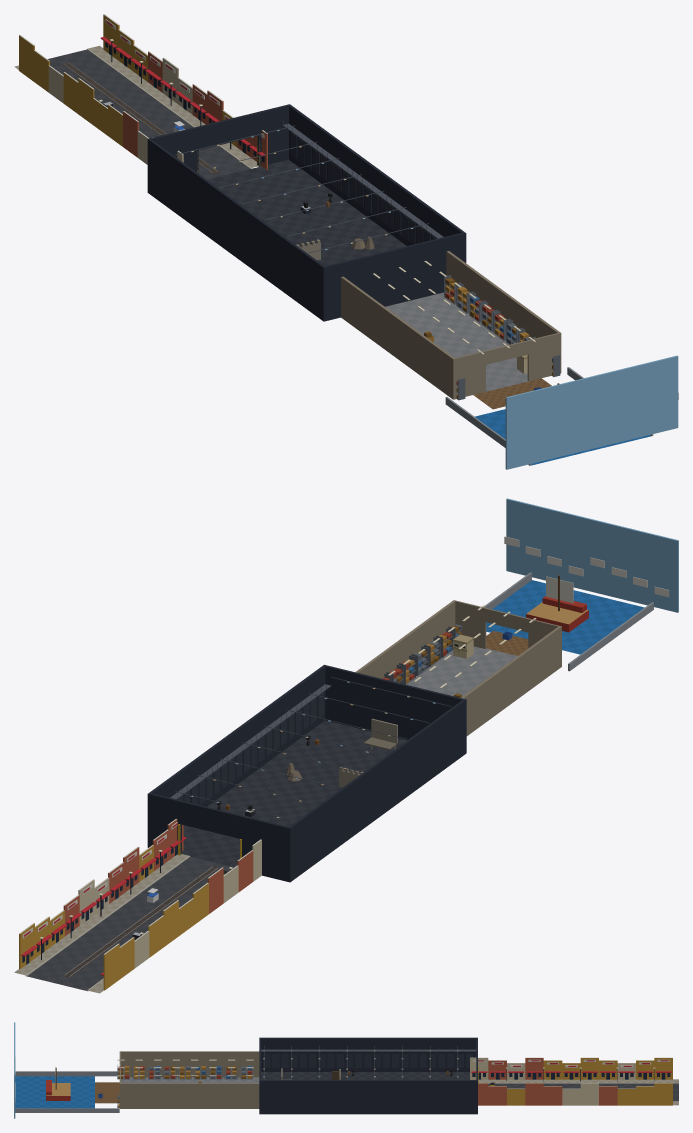
Rendered from stage2.glb.
The picture shows the model from 3 angles, top to bottom: view 1: azimuth 30°, elevation 25°; view 2: azimuth 150°, elevation 25°; view 3: azimuth 270°, elevation 25°; orthographic projection. The views are drawn at different scales.
Visible parts, largest first — view 1: Studio, Props, Lot, Tank; view 2: Studio, Tank, Lot, Props; view 3: Studio, Lot, Props, Tank, Lights.
Part boxes in pixels (x1,y1,x2,y2): Studio: (147, 104, 466, 321); Props: (341, 251, 561, 400); Lot: (14, 14, 267, 179); Tank: (445, 355, 678, 469); Studio: (147, 664, 466, 882); Tank: (484, 498, 678, 671); Lot: (14, 819, 261, 993); Props: (355, 600, 561, 735); Studio: (259, 1037, 478, 1114); Lot: (470, 1057, 678, 1105); Props: (117, 1051, 259, 1108); Tank: (14, 1022, 119, 1118); Lights: (117, 1050, 655, 1077).
Size of the model in its own units: 40.4 by 16.6 by 216.
